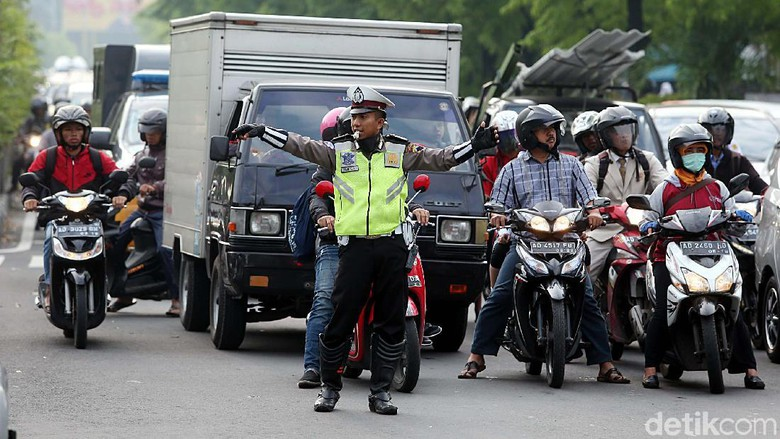plate: (530, 239, 574, 253), (57, 224, 97, 239), (679, 240, 728, 252)
